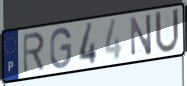4: (104, 16, 125, 63), (77, 21, 98, 66)
G: (49, 26, 73, 70)
N: (129, 12, 153, 58)
R: (21, 31, 46, 76)
U: (153, 7, 181, 56)
